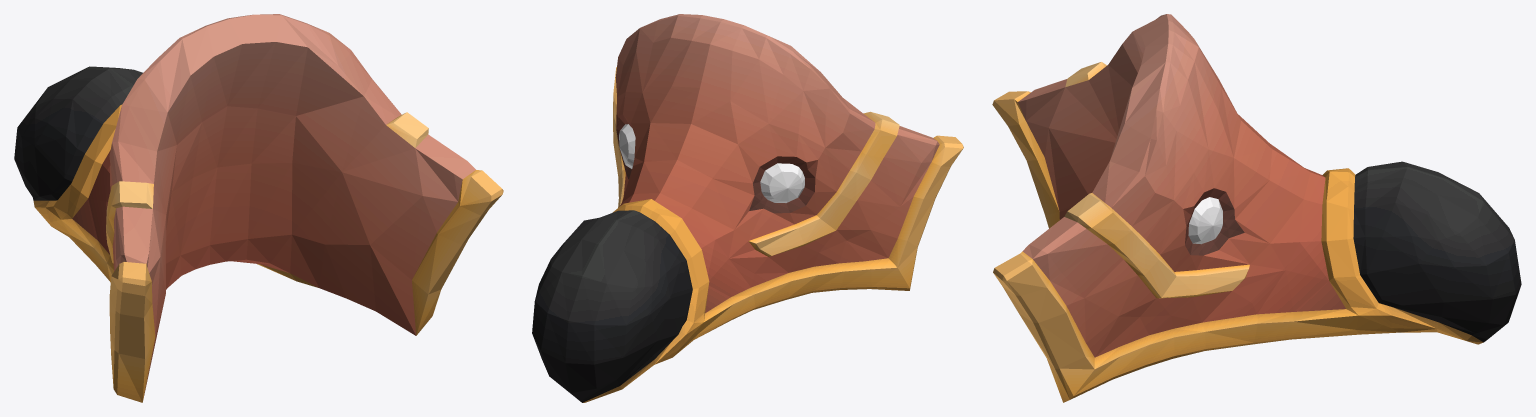
File: CharSkyKid_Mask_AP30Dodo.glb
The picture shows the model from 3 angles, left to right: view 1: azimuth 30°, elevation 25°; view 2: azimuth 150°, elevation 25°; view 3: azimuth 270°, elevation 25°; orthographic projection. The views are drawn at different scales.
Parts seen in each view (by area): view 1: CharSkyKid_Mask_AP30Dodo; view 2: CharSkyKid_Mask_AP30Dodo; view 3: CharSkyKid_Mask_AP30Dodo.
Boxes of the visible parts, <box> form: CharSkyKid_Mask_AP30Dodo: <box>14,14,503,402</box>; CharSkyKid_Mask_AP30Dodo: <box>532,14,963,402</box>; CharSkyKid_Mask_AP30Dodo: <box>992,14,1521,402</box>.
Bounding box in the file's own units: 2.82 × 2.23 × 3.41.
1 material, 1 textured.
